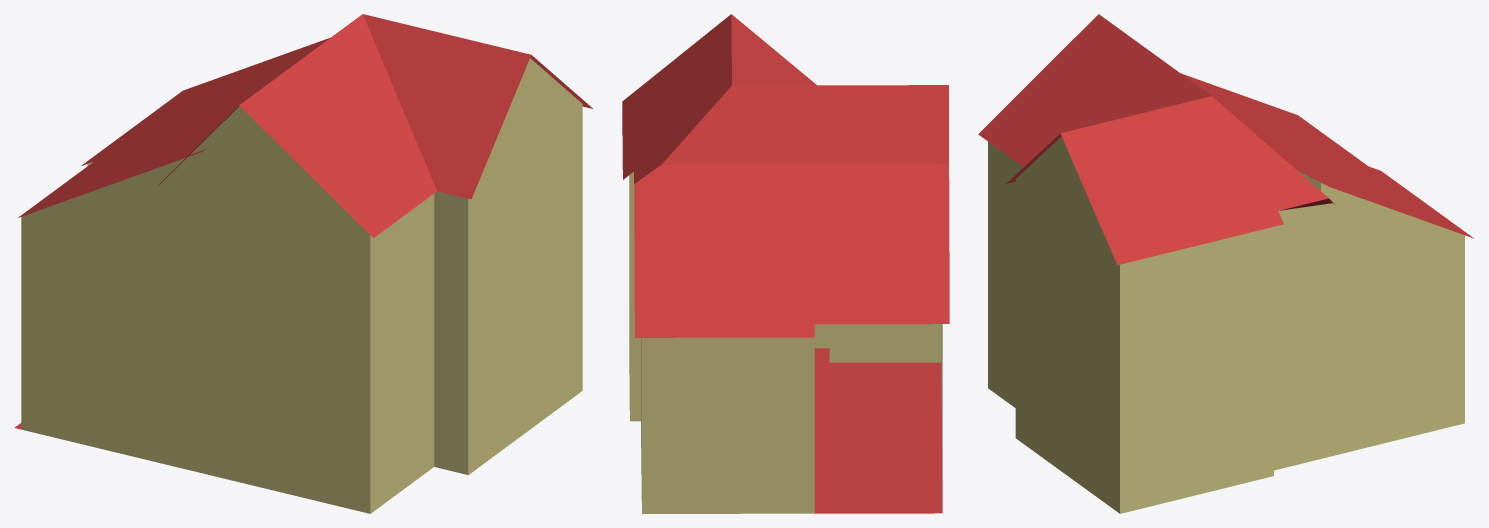
3 views of the same model, side by side, from view 1: azimuth 30°, elevation 25°; view 2: azimuth 150°, elevation 25°; view 3: azimuth 270°, elevation 25° (orthographic). The views are drawn at different scales.
Bounding box in the file's own units: 17.02 × 17.04 × 13.
